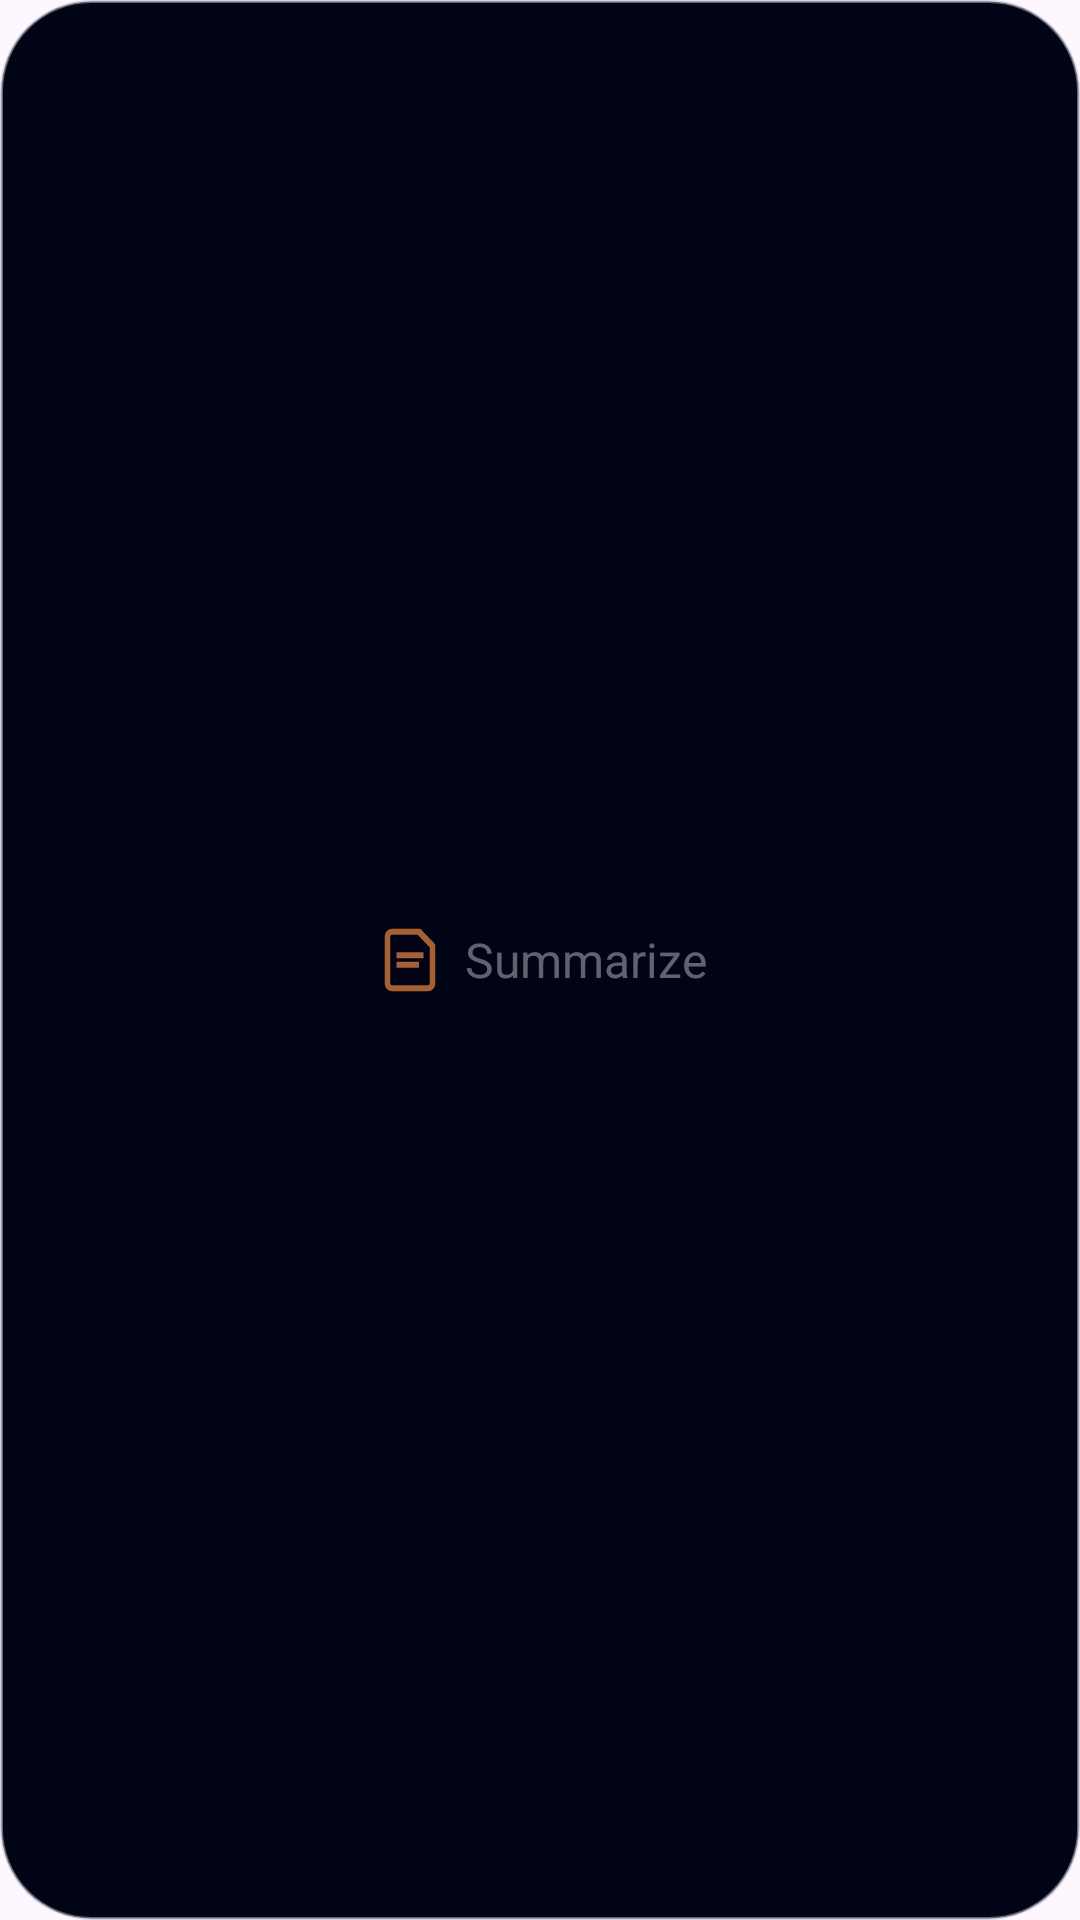

Locate icon controls on the screen. Image size 1080×1920, boxes as (x1, y1, x2, y2).
file: (384, 928, 436, 992)
